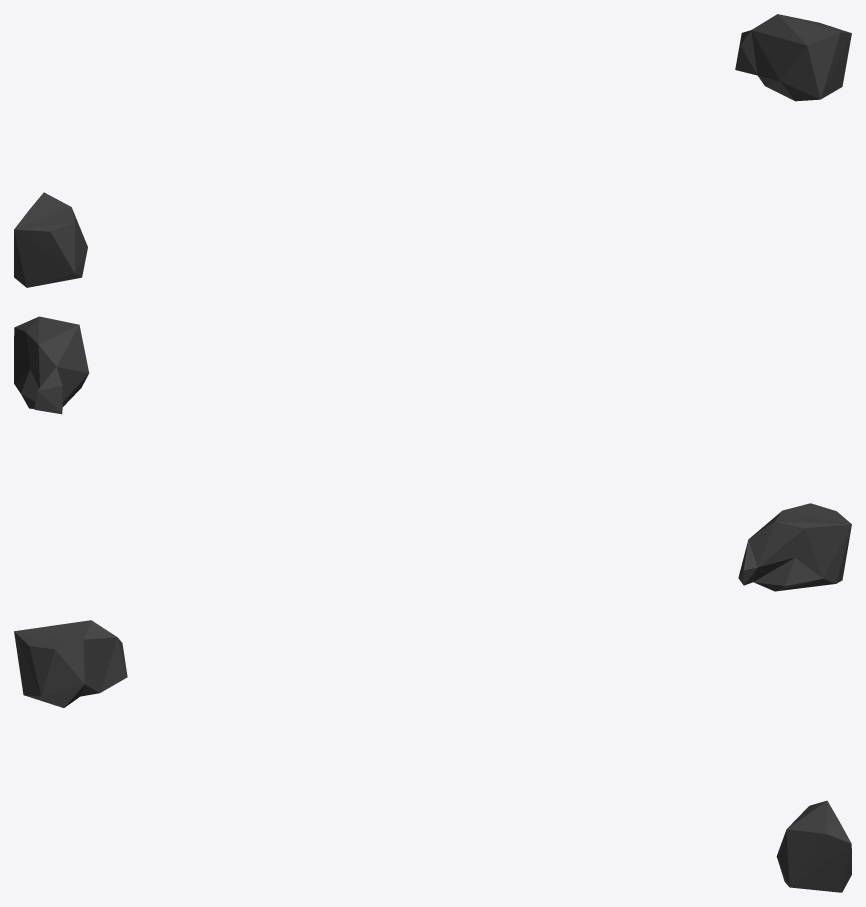
The model's file is Tarsal_third.glb.
The picture shows the model from 3 angles, top to bottom: view 1: azimuth 30°, elevation 25°; view 2: azimuth 150°, elevation 25°; view 3: azimuth 330°, elevation 25°; orthographic projection.
Visible parts, largest first — view 1: Tarsal_third; view 2: Tarsal_third; view 3: Tarsal_third.
Boxes of the visible parts, x1,y1,x2,y2 form: Tarsal_third: [14, 14, 851, 287]; Tarsal_third: [14, 316, 851, 591]; Tarsal_third: [14, 620, 851, 892].
Size of the model in its own units: 0.00502 by 0.000384 by 0.000639.
Materials: 1 (1 with a texture image).
